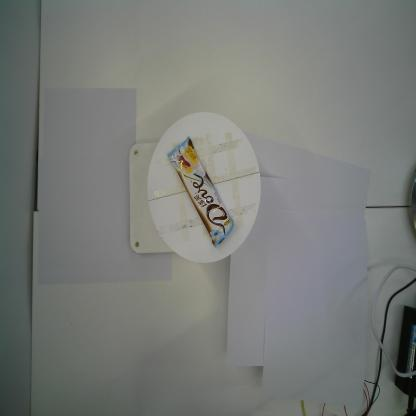Chocolate: (166, 135, 235, 249)
